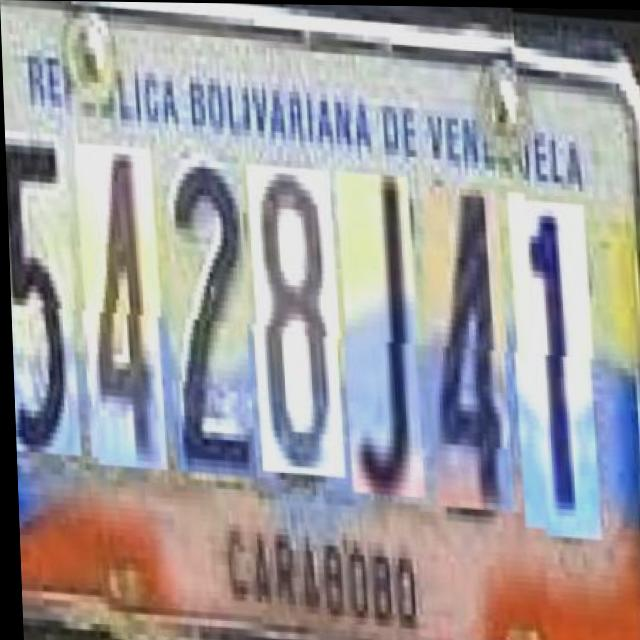1: (503, 183, 597, 522)
2: (158, 147, 252, 473)
4: (72, 141, 164, 467), (419, 177, 511, 503)
5: (4, 135, 77, 461)
8: (243, 159, 342, 471)
j: (332, 165, 421, 491)
